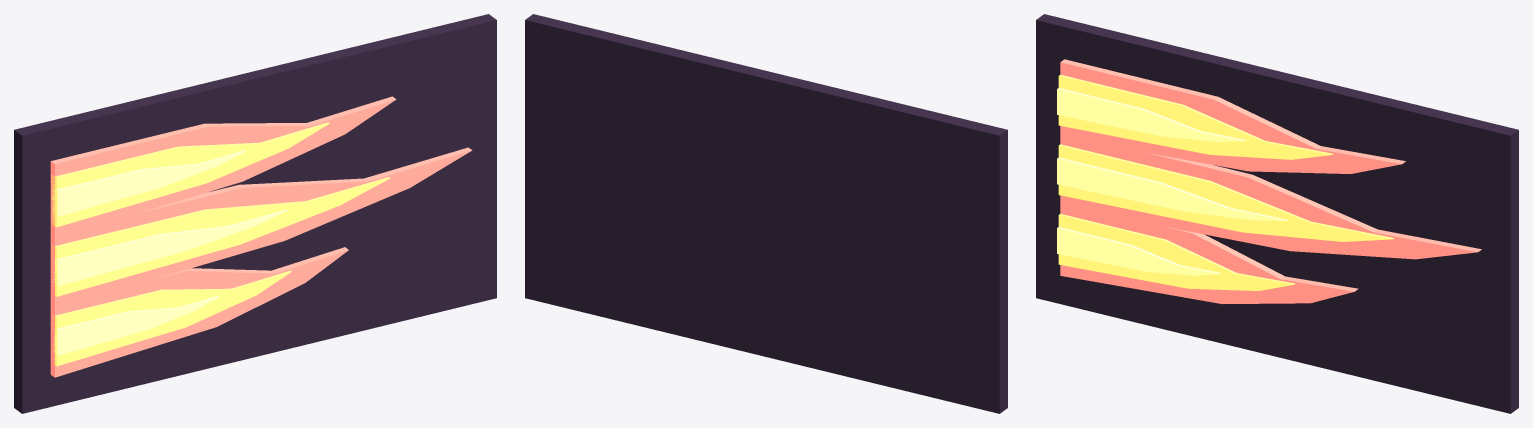
Rendered from neon_flame.glb.
3 renders of one model, left to right at view 1: azimuth 30°, elevation 25°; view 2: azimuth 150°, elevation 25°; view 3: azimuth 330°, elevation 25°, orthographic.
Parts seen in each view (by area): view 1: neon_flame; view 2: neon_flame; view 3: neon_flame.
Part boxes in pixels (x1=…): neon_flame: x1=14, y1=14, x2=496, y2=413; neon_flame: x1=525, y1=14, x2=1007, y2=413; neon_flame: x1=1036, y1=14, x2=1518, y2=413.
Bounding box in the file's own units: 1 × 0.56 × 0.057.
